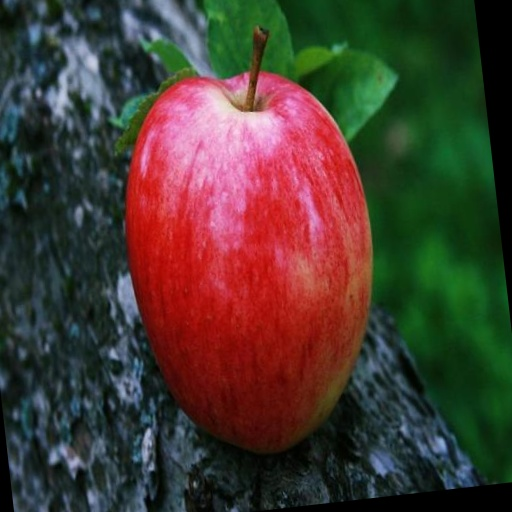fruit: (126, 65, 372, 453)
